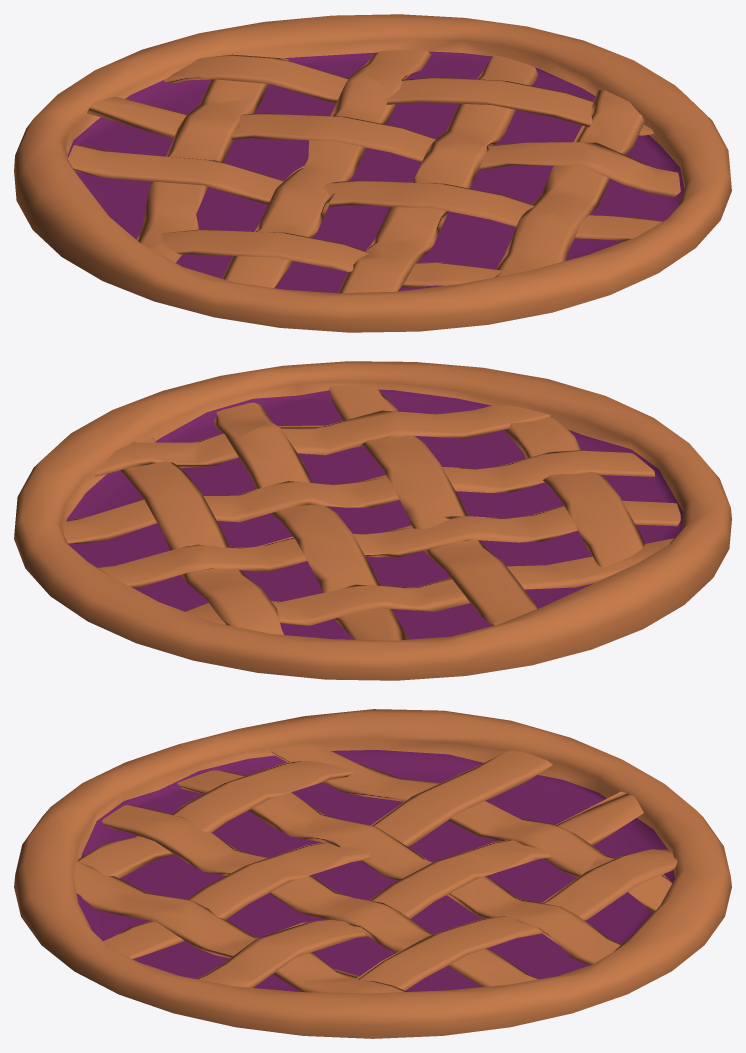
The model's file is crostata_LOD1.fbx.
3 renders of one model, top to bottom at view 1: azimuth 30°, elevation 25°; view 2: azimuth 150°, elevation 25°; view 3: azimuth 270°, elevation 25°, orthographic.
Parts seen in each view (by area): view 1: Cube_001; view 2: Cube_001; view 3: Cube_001.
Boxes of the visible parts, x1,y1,x2,y2 form: Cube_001: [14, 14, 731, 332]; Cube_001: [14, 361, 731, 680]; Cube_001: [14, 709, 731, 1038].
Size of the model in its own units: 81.04 by 5.86 by 81.04.
